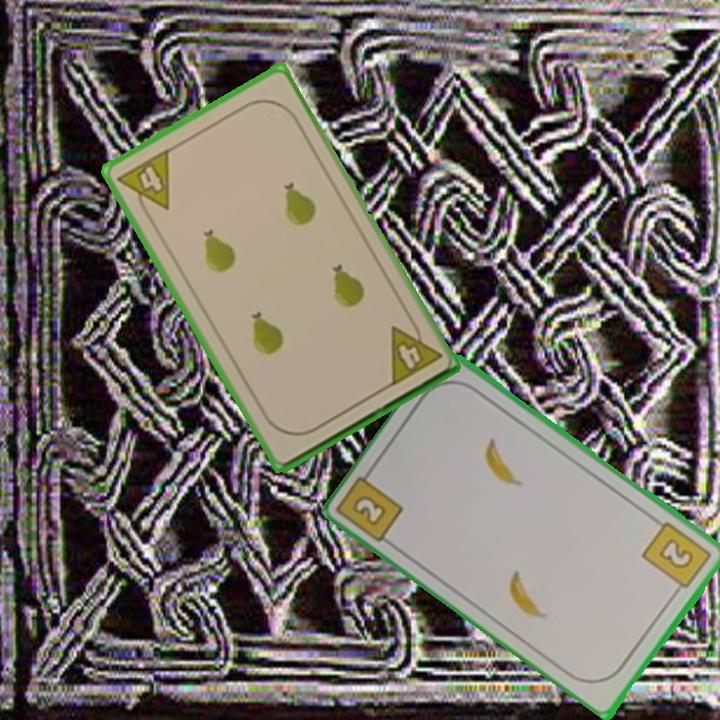2b: (639, 517, 715, 598), (349, 491, 390, 529)
4p: (113, 145, 173, 223), (386, 314, 445, 390)
